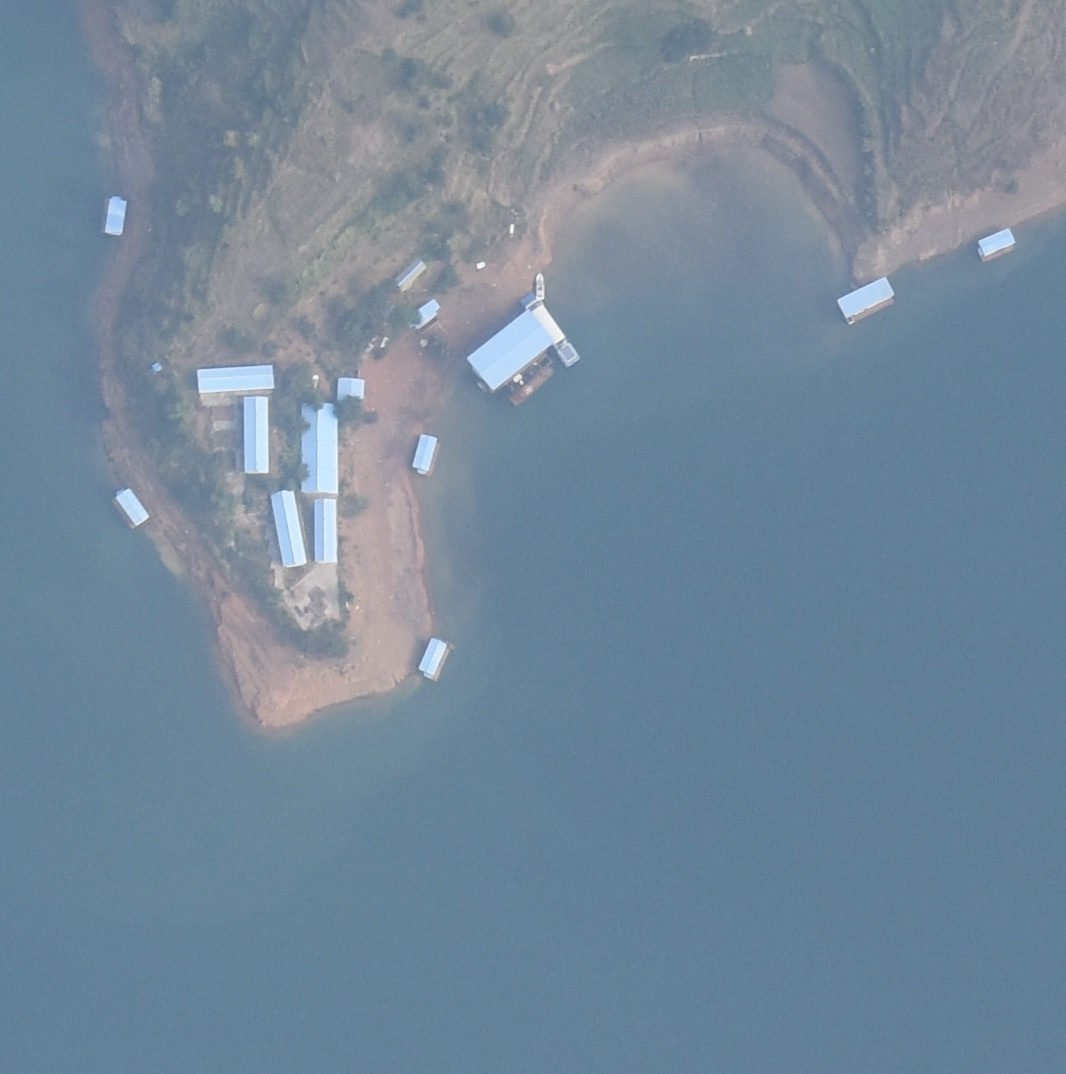prefabricated-house: (468, 308, 557, 391), (301, 404, 340, 495), (269, 489, 306, 569), (837, 276, 895, 319), (241, 394, 271, 476), (198, 366, 275, 394), (311, 500, 340, 565), (115, 486, 151, 531), (976, 227, 1016, 258), (418, 638, 447, 676), (407, 298, 440, 330), (395, 258, 426, 291), (412, 434, 437, 472), (334, 375, 368, 399), (106, 197, 126, 236)
ship: (508, 366, 556, 407), (535, 272, 545, 300)
